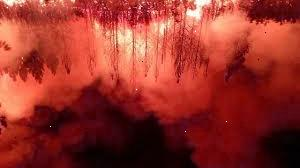fire: (0, 0, 244, 53)
